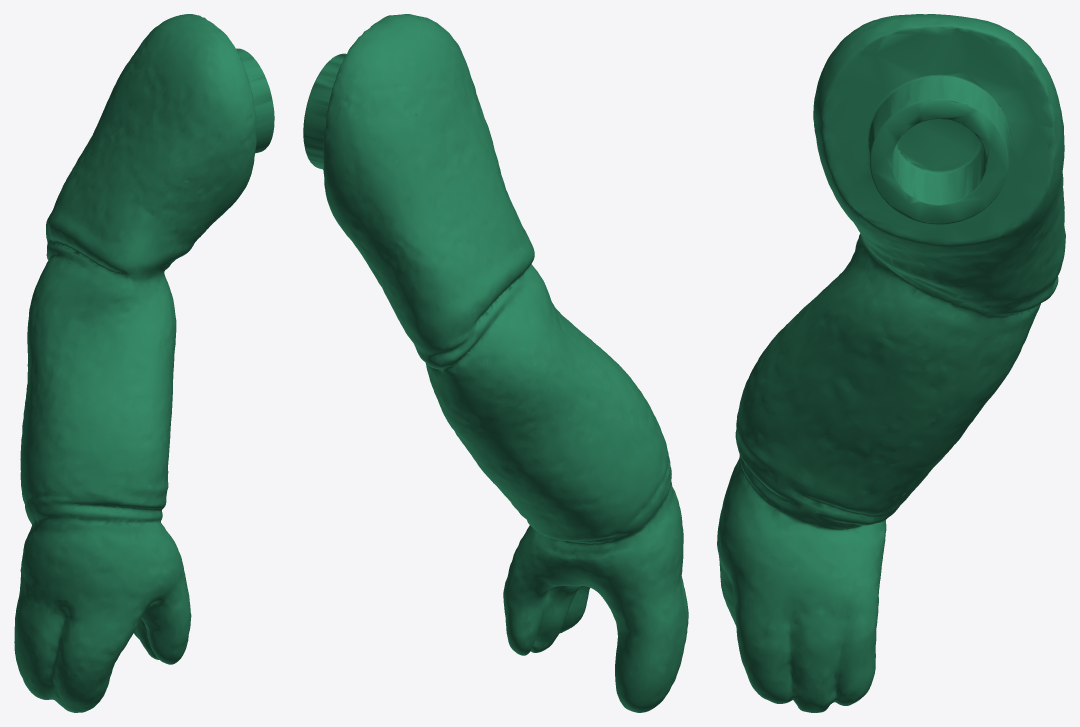
Rendered from Bras_Cameleon_rg.glb.
3 renders of one model, left to right at view 1: azimuth 30°, elevation 25°; view 2: azimuth 150°, elevation 25°; view 3: azimuth 270°, elevation 25°, orthographic. The views are drawn at different scales.
Parts seen in each view (by area): view 1: Bras_Cameleon_rg; view 2: Bras_Cameleon_rg; view 3: Bras_Cameleon_rg.
Part boxes in pixels (box(x1,y1,x2,y2)): Bras_Cameleon_rg: box(14, 14, 274, 712); Bras_Cameleon_rg: box(303, 14, 688, 712); Bras_Cameleon_rg: box(717, 14, 1065, 712).
Size of the model in its own units: 2.5 by 5.38 by 2.15.
